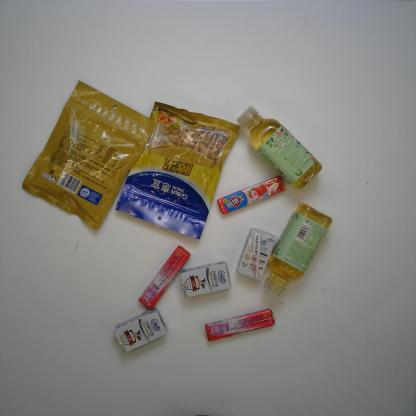Candy: (137, 244, 191, 310), (218, 174, 286, 214), (205, 308, 275, 342)
Dried Fruit: (21, 80, 156, 230), (114, 100, 242, 241)
Drink: (235, 105, 324, 190), (262, 202, 332, 298)
Milk: (114, 308, 168, 355), (235, 227, 278, 281), (179, 260, 231, 299)
